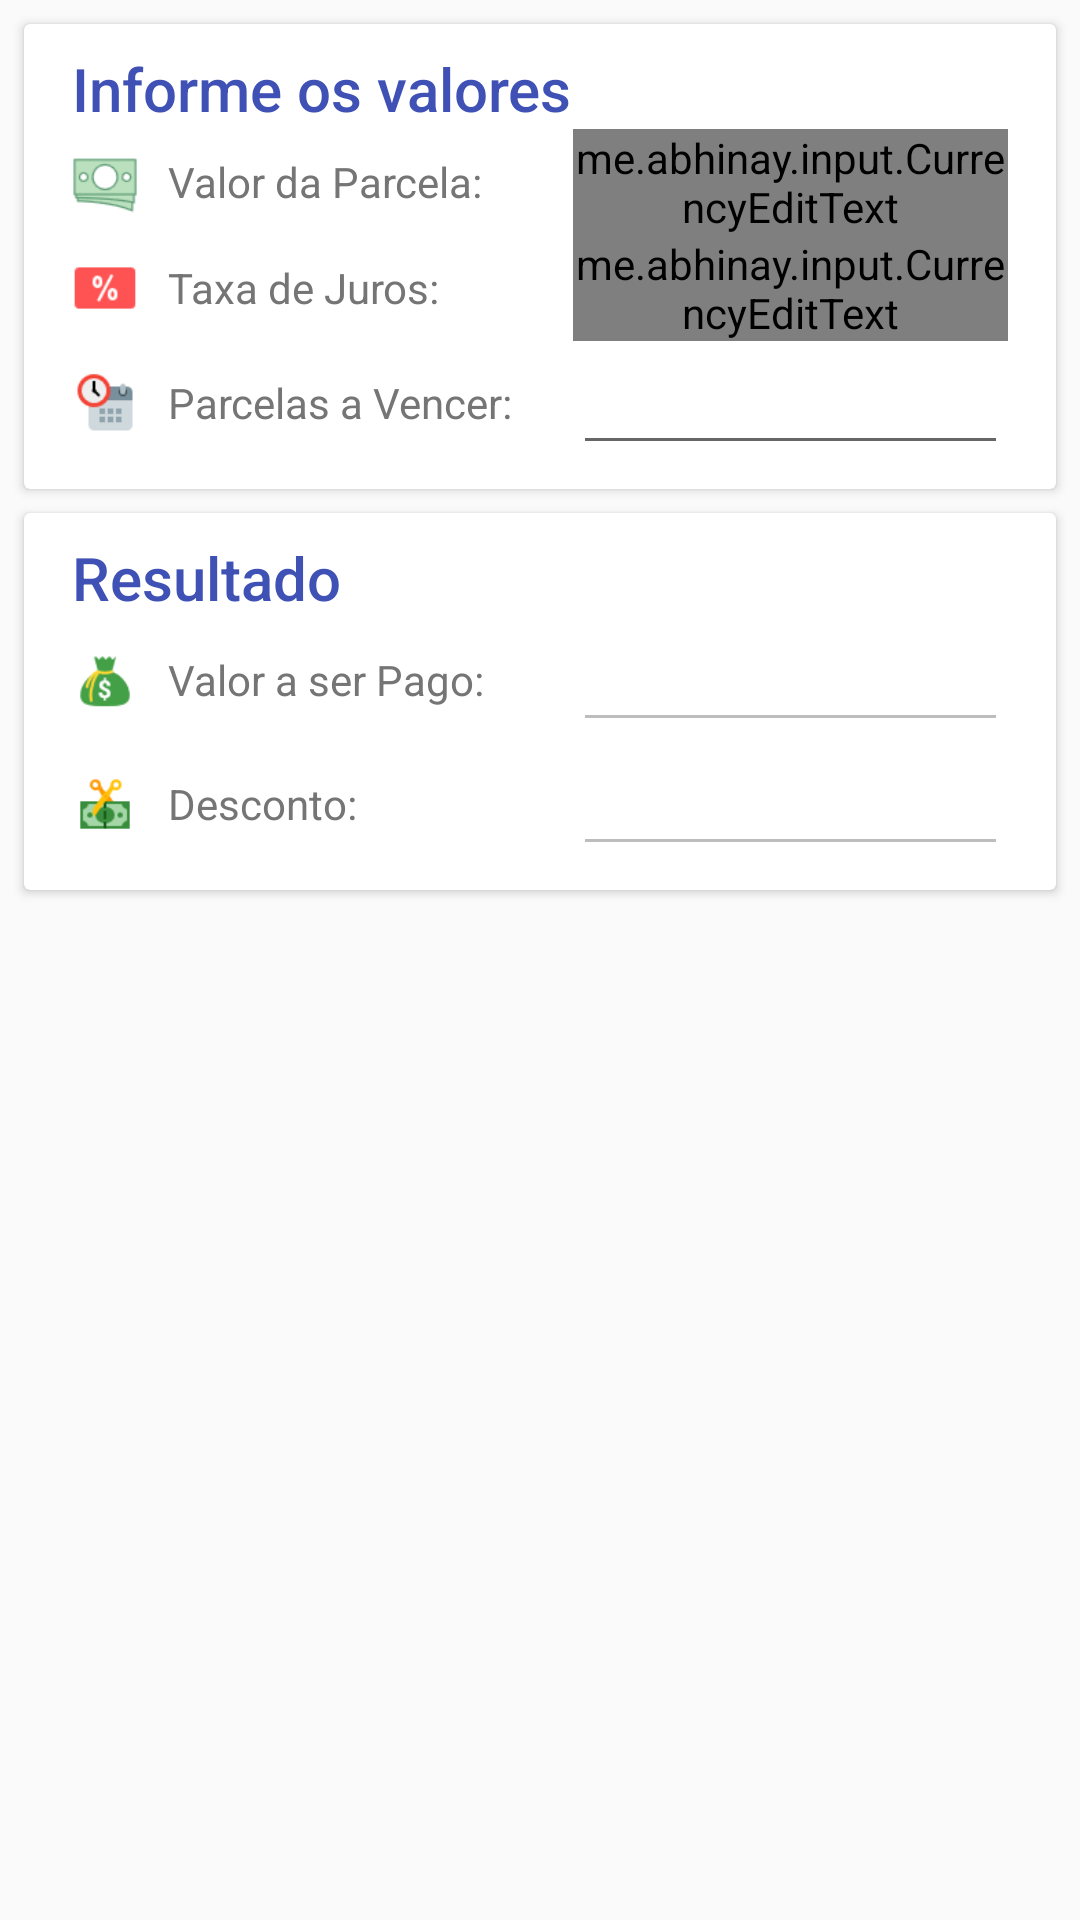

Point at icon controls on the screen. Image size 1080 × 1920, points as (x,y).
money: (105,185)
money bag: (105,681)
overtime: (105,402)
